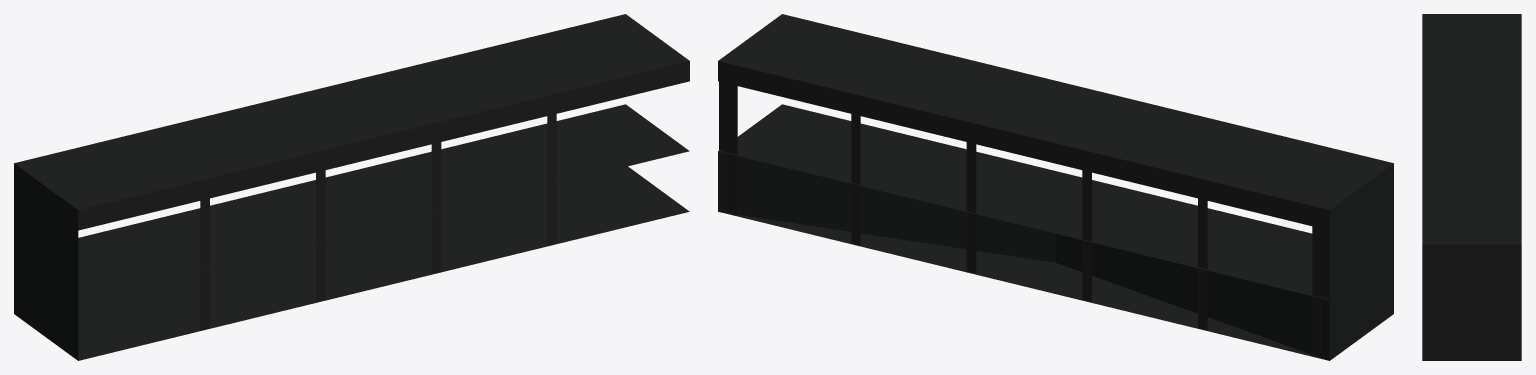
The model's file is AMB_STUP_D4_01.glb.
3 views of the same model, side by side, from view 1: azimuth 30°, elevation 25°; view 2: azimuth 150°, elevation 25°; view 3: azimuth 270°, elevation 25° (orthographic). The views are drawn at different scales.
Visible parts, largest first — view 1: BASE; view 2: BASE; view 3: BASE.
Boxes of the visible parts, bbox=[...] form: BASE: bbox=[14, 14, 689, 360]; BASE: bbox=[718, 14, 1393, 360]; BASE: bbox=[1422, 14, 1521, 360].
Size of the model in its own units: 52.91 by 12.46 by 9.61.
Materials: 3 (3 with a texture image).
